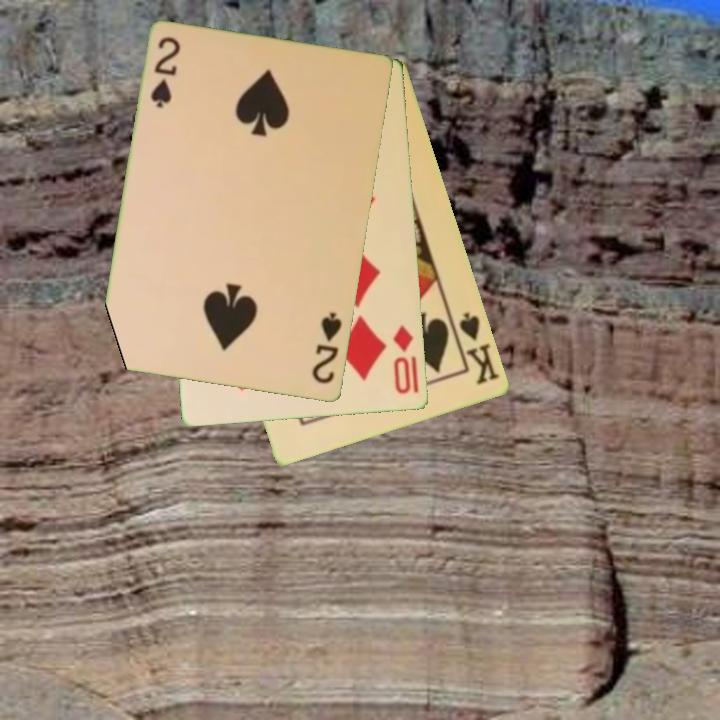10d: (389, 322, 417, 398)
2s: (147, 33, 184, 111), (309, 309, 345, 387)
Ks: (448, 309, 503, 388)
